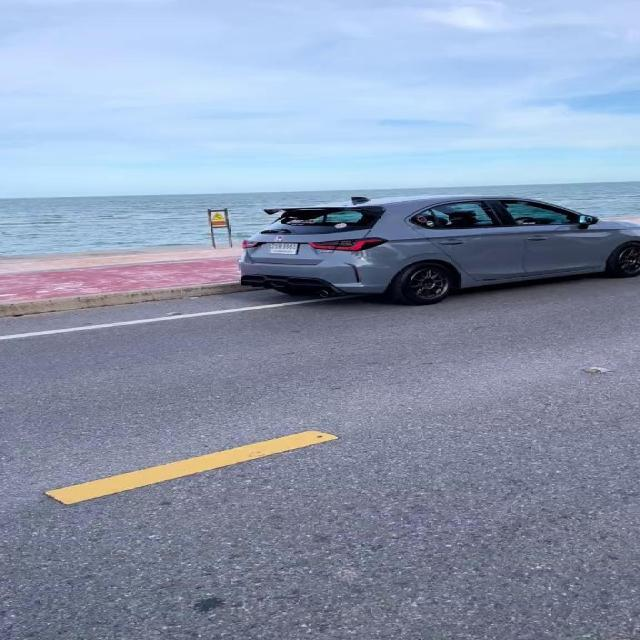Hatchback: (238, 196, 639, 306)
